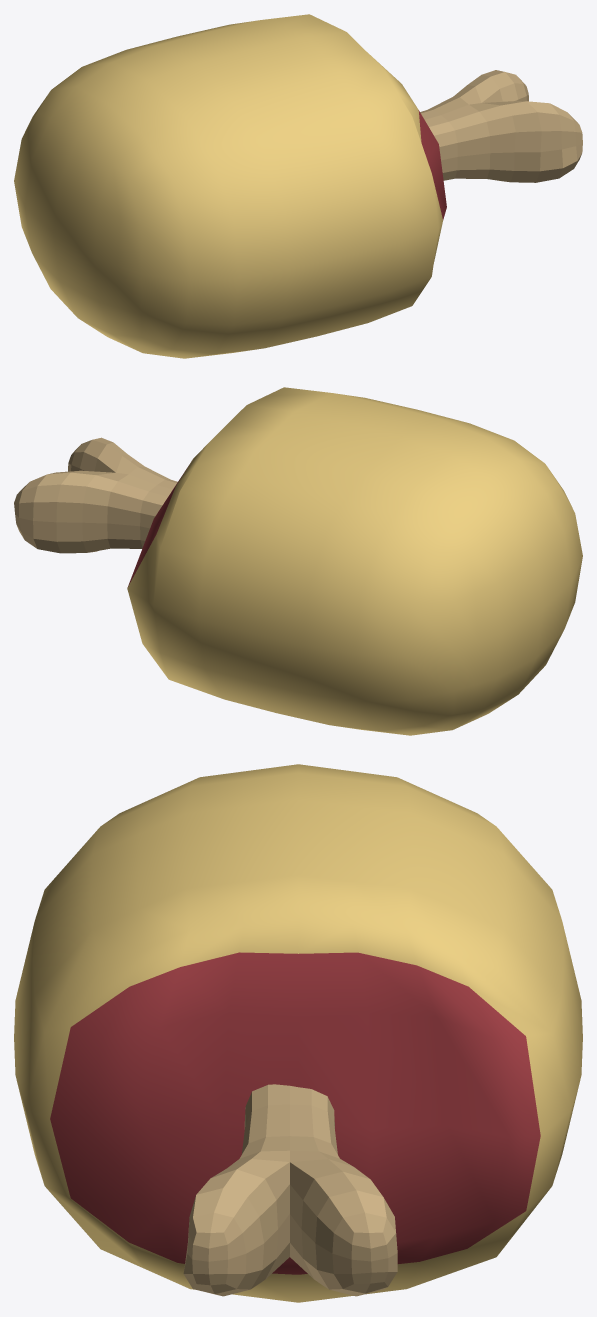
Rendered from UpperArm_Dism.fbx.
3 views of the same model, one above another, from view 1: azimuth 30°, elevation 25°; view 2: azimuth 150°, elevation 25°; view 3: azimuth 270°, elevation 25° (orthographic). The views are drawn at different scales.
Parts seen in each view (by area): view 1: UpperArm_L.001; view 2: UpperArm_L.001; view 3: UpperArm_L.001.
Part boxes in pixels (left/top/right/bottom): UpperArm_L.001: left=14, top=14, right=582, bottom=358; UpperArm_L.001: left=14, top=387, right=582, bottom=735; UpperArm_L.001: left=14, top=764, right=582, bottom=1302.
Bounding box in the file's own units: 86.54 × 45.31 × 58.01.
